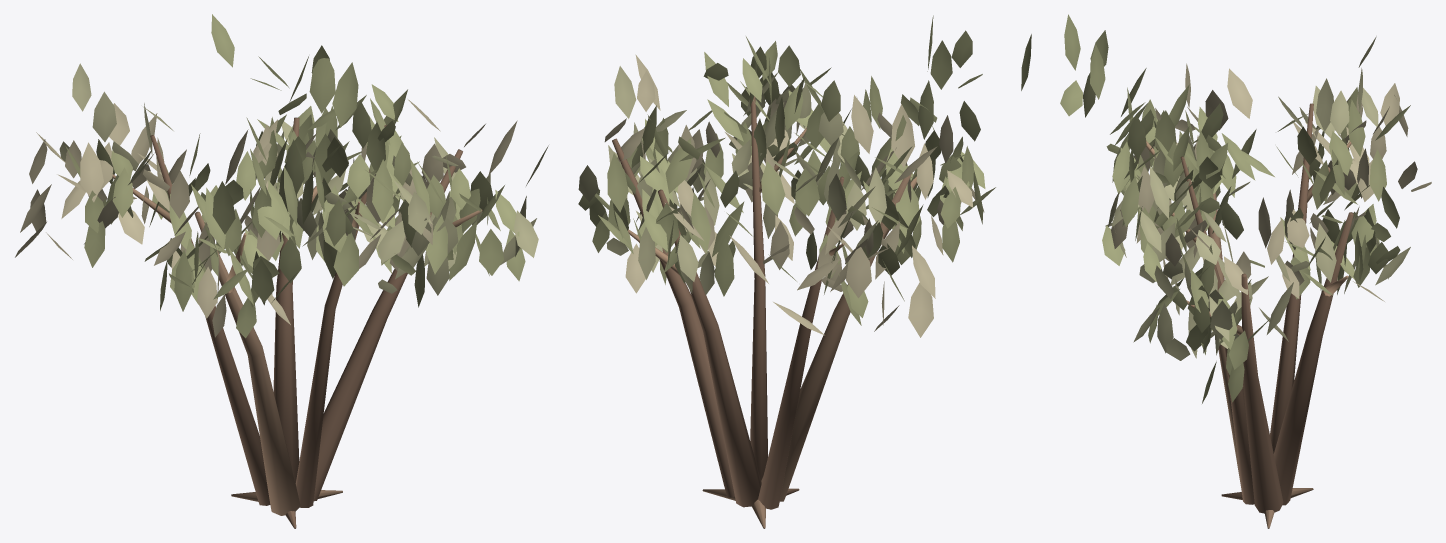
Rendered from bush_3d_03.glb.
3 renders of one model, left to right at view 1: azimuth 30°, elevation 25°; view 2: azimuth 150°, elevation 25°; view 3: azimuth 270°, elevation 25°, orthographic. The views are drawn at different scales.
Visible parts, largest first — view 1: bush_3d_03_foliage, bush_3d_03_wood; view 2: bush_3d_03_foliage, bush_3d_03_wood; view 3: bush_3d_03_foliage, bush_3d_03_wood.
Boxes of the visible parts, x1,y1,x2,y2 form: bush_3d_03_foliage: (15, 14, 548, 338); bush_3d_03_wood: (112, 117, 482, 528); bush_3d_03_foliage: (578, 15, 1031, 337); bush_3d_03_wood: (612, 96, 939, 528); bush_3d_03_foliage: (1060, 14, 1431, 403); bush_3d_03_wood: (1146, 103, 1353, 528).
Size of the model in its own units: 1.99 by 2.02 by 1.61.
